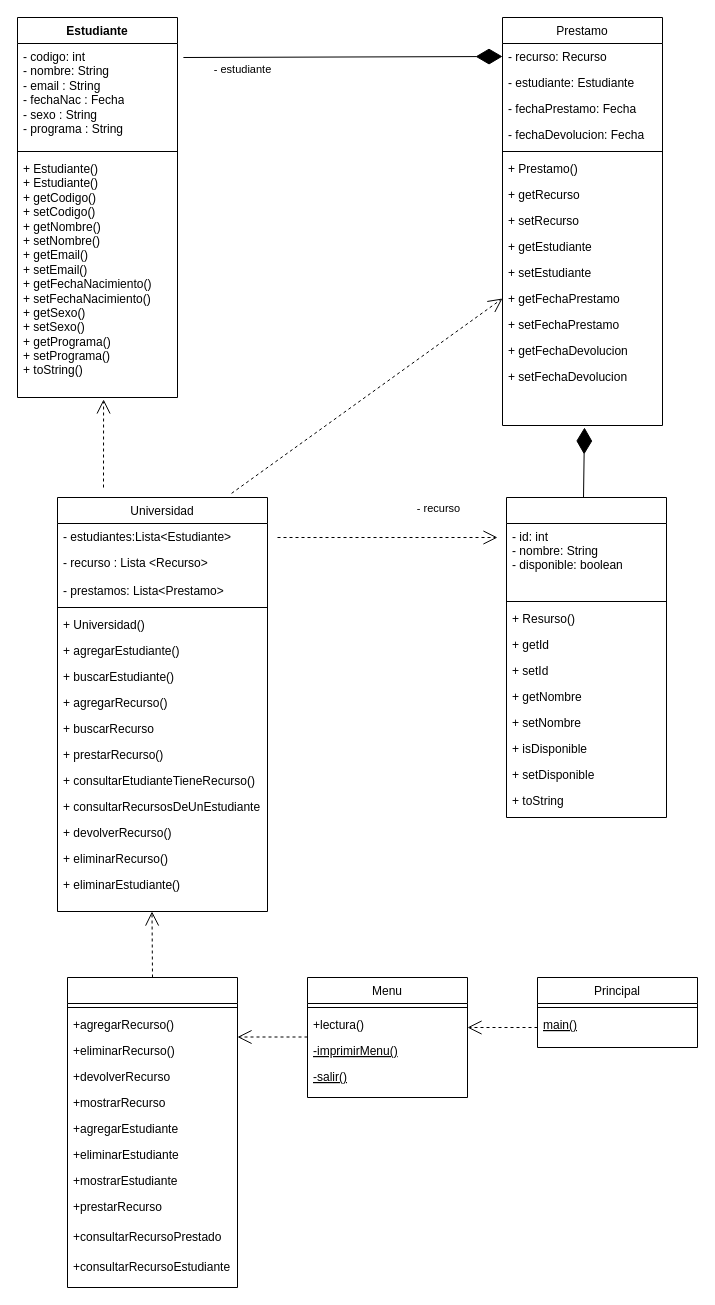
This 715x1305 diagram has some shape labels left out. Here are the shapes that lost their labels. From the top down, the box of each, then its label:
(506, 496, 666, 818): Recurso
(66, 976, 238, 1288): MenuOpciones
